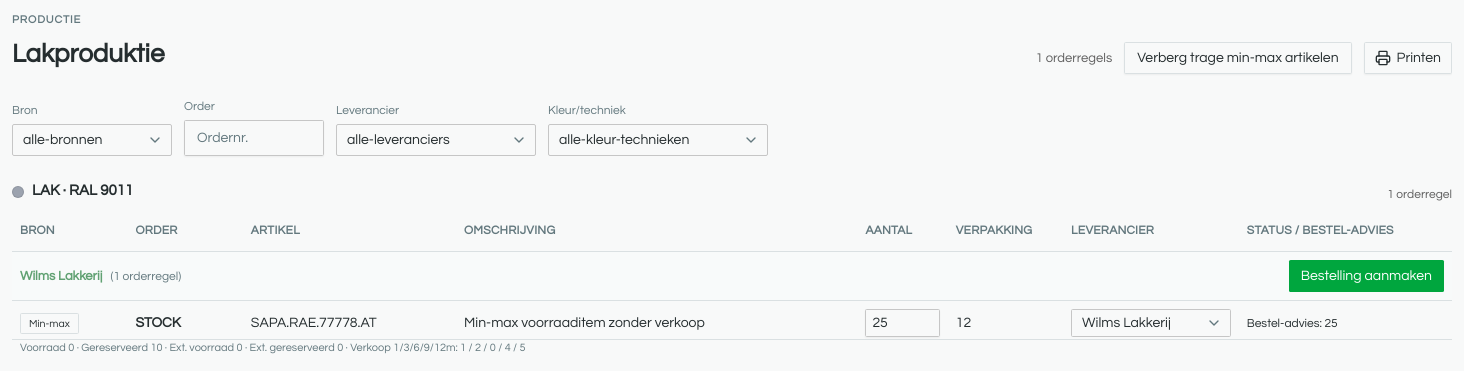
Test case: LakproductiePage › also hides a min-max-voorraad row with verkoop6Maand 0, even when voorraad is 0 too
Expected: the text "SAPA.RAE.77778.AT" is shown, left=243, top=300, right=456, bottom=340
Click the button "Verberg trage min-max artikelen".
click(1238, 58)  # box left=1124, top=42, right=1352, bottom=74
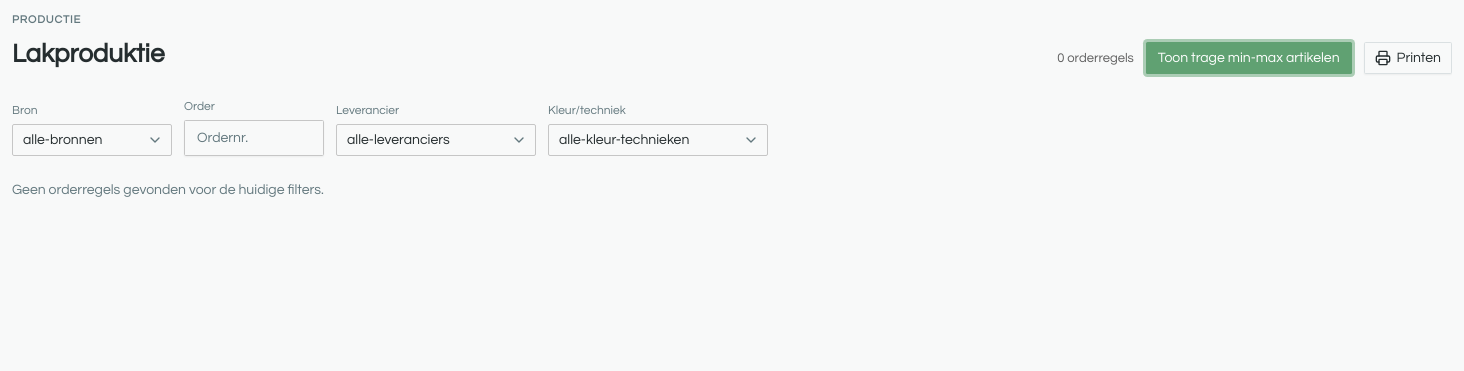
Expected: the button "SAPA.RAE.77778.AT" is gone
